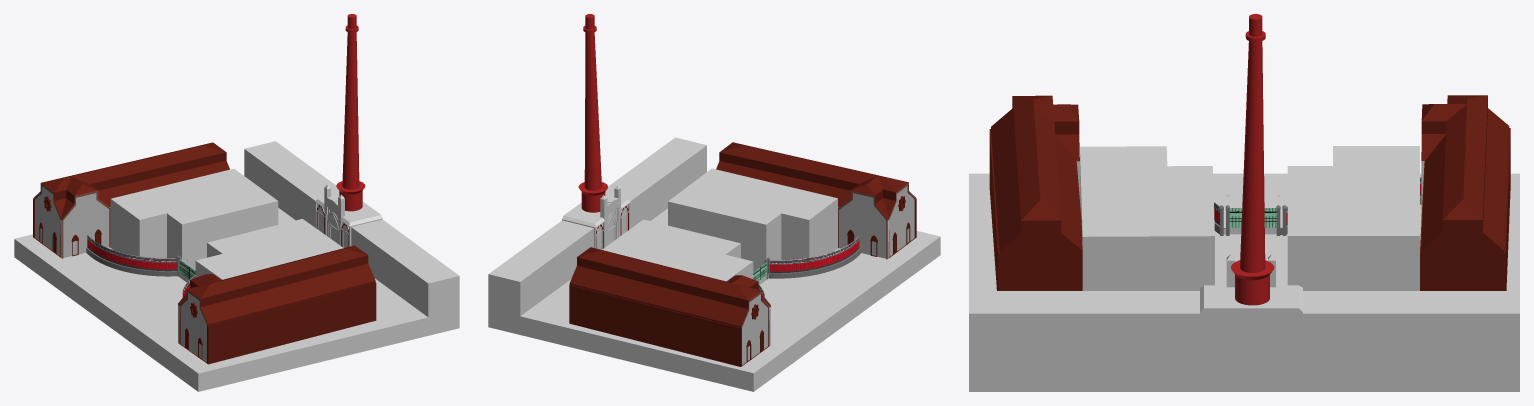
File: fabbrica.gltf
The picture shows the model from 3 angles, left to right: view 1: azimuth 30°, elevation 25°; view 2: azimuth 150°, elevation 25°; view 3: azimuth 270°, elevation 25°; orthographic projection. The views are drawn at different scales.
Bounding box in the file's own units: 50.72 × 45.43 × 61.88.
Materials: 14 (4 with a texture image).
